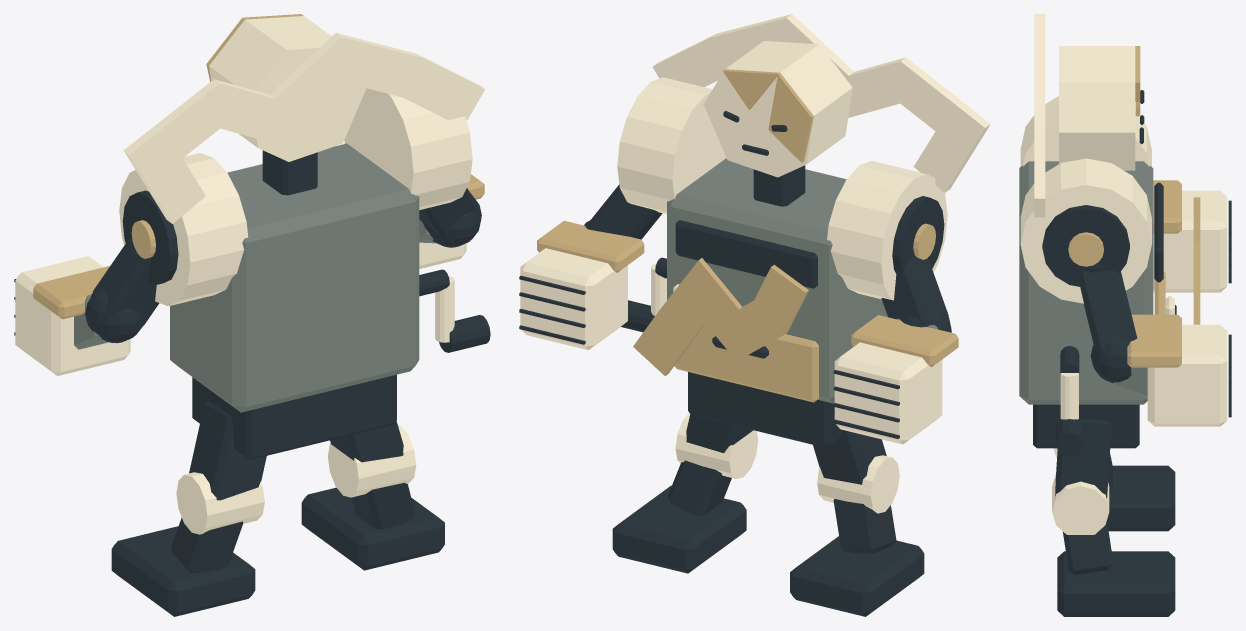
The picture shows the model from 3 angles, left to right: view 1: azimuth 30°, elevation 25°; view 2: azimuth 150°, elevation 25°; view 3: azimuth 270°, elevation 25°; orthographic projection. The views are drawn at different scales.
Visible parts, largest first — view 1: jammed_feed_body, jam_mantle_continuous_fold, crumpled_head, right_paper_roll, drawer_pelvis, left_paper_roll, left_shoe, right_shoe, left_paper_fist, left_thigh, left_knee_pin, right_knee_pin (+15 smaller); view 2: jammed_feed_body, jam_mantle_continuous_fold, crumpled_head, right_paper_roll, jam_front_continuous_fold, left_paper_roll, left_paper_fist, right_paper_fist, left_shoe, right_shoe, drawer_pelvis, drawer_front (+17 smaller); view 3: jammed_feed_body, crumpled_head, right_paper_roll, right_shoe, right_paper_fist, left_paper_fist, left_shoe, right_roller_cap, right_upper_arm, drawer_pelvis, right_paper_cuff, right_thigh (+15 smaller).
Boxes of the visible parts, bbox=[...] form: jammed_feed_body: bbox=[170, 143, 419, 412]; jam_mantle_continuous_fold: bbox=[123, 33, 484, 223]; crumpled_head: bbox=[209, 16, 366, 161]; right_paper_roll: bbox=[344, 88, 472, 209]; drawer_pelvis: bbox=[192, 374, 396, 459]; left_paper_roll: bbox=[119, 153, 248, 306]; left_shoe: bbox=[111, 526, 255, 616]; right_shoe: bbox=[301, 487, 444, 570]; left_paper_fist: bbox=[15, 256, 130, 375]; left_thigh: bbox=[189, 400, 266, 500]; left_knee_pin: bbox=[176, 472, 264, 534]; right_knee_pin: bbox=[328, 425, 416, 497]; jammed_feed_body: bbox=[667, 158, 887, 403]; jam_mantle_continuous_fold: bbox=[652, 14, 990, 192]; crumpled_head: bbox=[703, 41, 852, 177]; right_paper_roll: bbox=[617, 77, 726, 214]; jam_front_continuous_fold: bbox=[633, 258, 808, 375]; left_paper_roll: bbox=[827, 161, 947, 300]; left_paper_fist: bbox=[834, 342, 942, 444]; right_paper_fist: bbox=[520, 248, 627, 350]; left_shoe: bbox=[790, 536, 924, 616]; right_shoe: bbox=[612, 485, 746, 573]; drawer_pelvis: bbox=[688, 372, 842, 447]; drawer_front: bbox=[674, 324, 818, 402]; jammed_feed_body: bbox=[1019, 161, 1153, 404]; crumpled_head: bbox=[1059, 46, 1135, 170]; right_paper_roll: bbox=[1020, 158, 1151, 303]; right_shoe: bbox=[1057, 551, 1175, 616]; right_paper_fist: bbox=[1147, 324, 1227, 426]; left_paper_fist: bbox=[1153, 190, 1227, 292]; left_shoe: bbox=[1107, 465, 1175, 531]; right_roller_cap: bbox=[1042, 205, 1129, 286]; right_upper_arm: bbox=[1079, 270, 1137, 354]; drawer_pelvis: bbox=[1033, 404, 1139, 448]; right_paper_cuff: bbox=[1127, 314, 1181, 367]; right_thigh: bbox=[1055, 419, 1111, 498].
Bounding box in the file's own units: 1.66 × 2.07 × 0.777.
